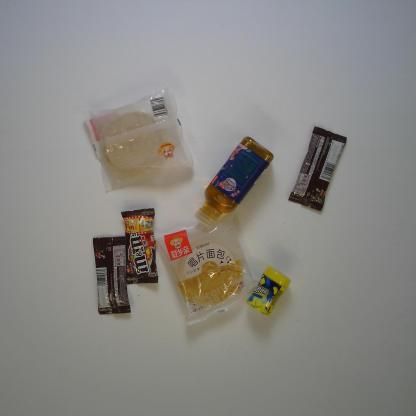Chocolate: (288, 126, 347, 212), (92, 236, 132, 315), (121, 206, 159, 285)
Dessert: (154, 211, 260, 328), (83, 86, 195, 192)
Drink: (193, 136, 274, 230)
Gum: (246, 266, 290, 316)
